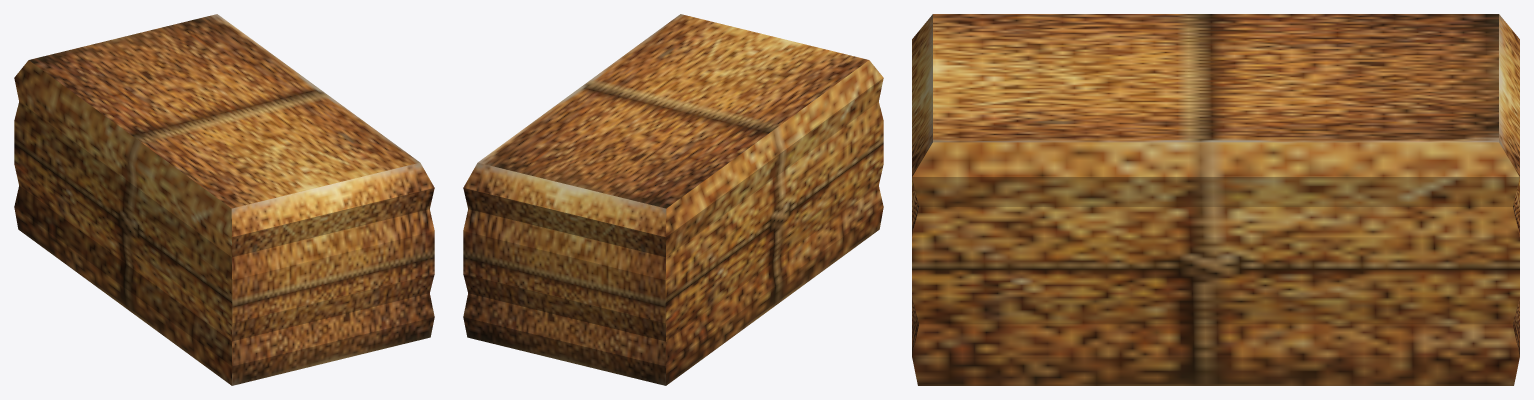
3 renders of one model, left to right at view 1: azimuth 30°, elevation 25°; view 2: azimuth 150°, elevation 25°; view 3: azimuth 270°, elevation 25°, orthographic. The views are drawn at different scales.
Parts seen in each view (by area): view 1: hö; view 2: hö; view 3: hö.
Part boxes in pixels (x1,y1,x2,y2): hö: [14, 14, 434, 385]; hö: [463, 14, 883, 385]; hö: [912, 14, 1519, 385].
Bounding box in the file's own units: 107 × 87.21 × 200.
2 materials, 2 textured.
